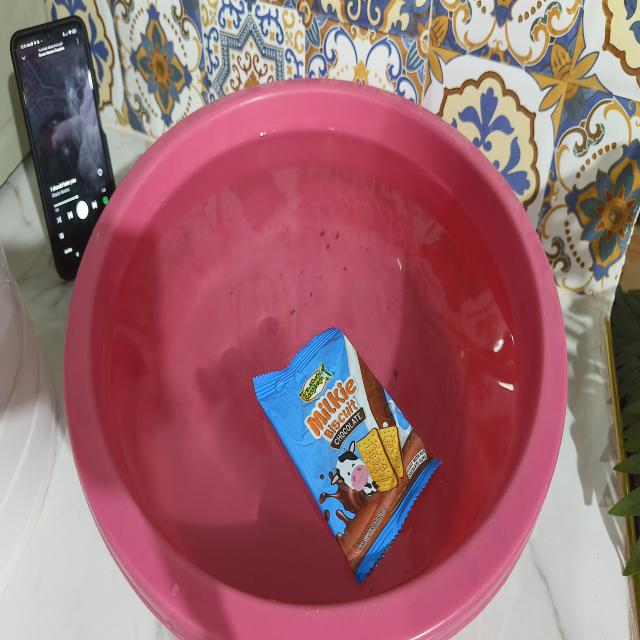Plastic Wrapper: (254, 329, 441, 584)
